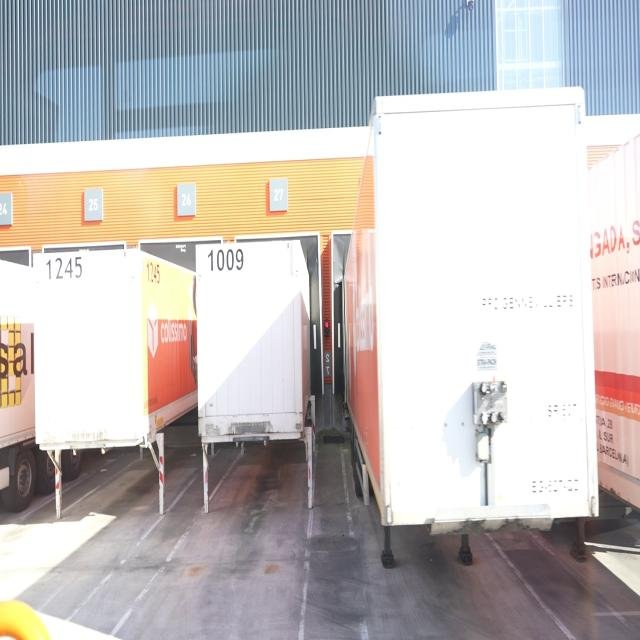Code: (43, 252, 86, 288), (204, 244, 245, 275)
